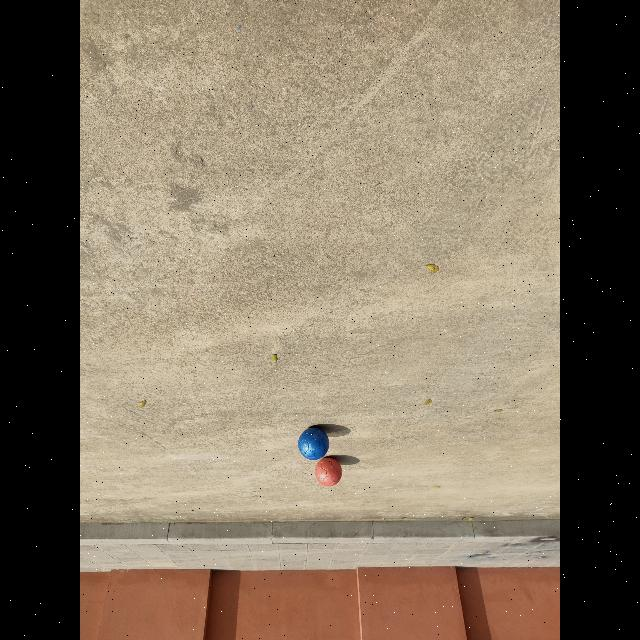B: (298, 427, 330, 460)
R: (314, 458, 342, 487)
